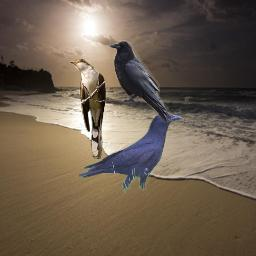Crow: (77, 112, 182, 197), (109, 40, 172, 123)
Cuckoo: (69, 59, 106, 159)
